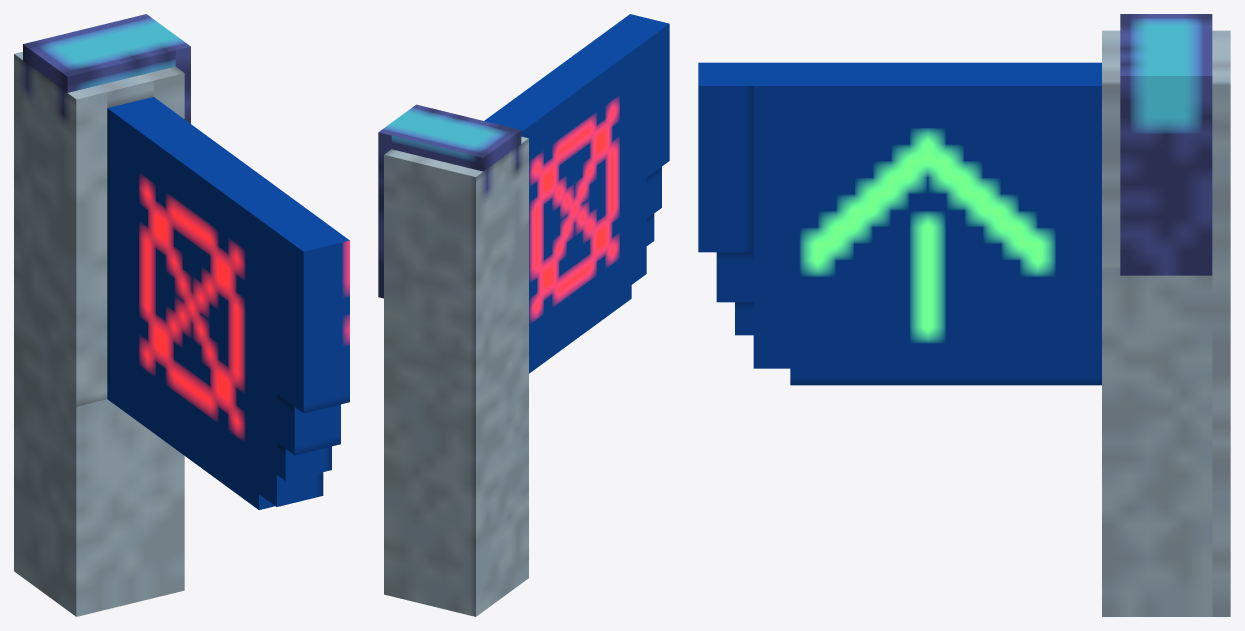
Rendered from bramka_metro.dae.
The picture shows the model from 3 angles, left to right: view 1: azimuth 30°, elevation 25°; view 2: azimuth 150°, elevation 25°; view 3: azimuth 270°, elevation 25°; orthographic projection. The views are drawn at different scales.
Parts seen in each view (by area): view 1: Content; view 2: Content; view 3: Content.
Boxes of the visible parts, x1,y1,x2,y2 form: Content: (14,14,349,616); Content: (378,14,669,616); Content: (698,14,1230,616).
Size of the model in its own units: 8 by 33 by 29.
Materials: 1 (1 with a texture image).
